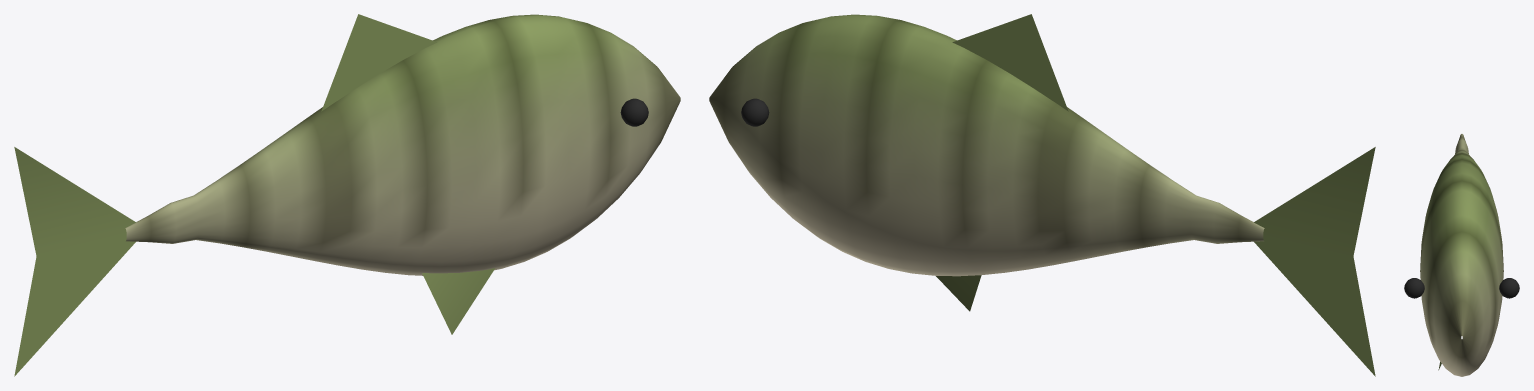
The model's file is fish_okoun.glb.
The picture shows the model from 3 angles, left to right: view 1: azimuth 30°, elevation 25°; view 2: azimuth 150°, elevation 25°; view 3: azimuth 270°, elevation 25°; orthographic projection. The views are drawn at different scales.
Parts seen in each view (by area): view 1: fish_okoun; view 2: fish_okoun; view 3: fish_okoun.
Part boxes in pixels (x1=…): fish_okoun: x1=14, y1=14, x2=680, y2=376; fish_okoun: x1=709, y1=14, x2=1375, y2=376; fish_okoun: x1=1404, y1=134, x2=1519, y2=376.
Bounding box in the file's own units: 0.8894 × 0.4194 × 0.182.
